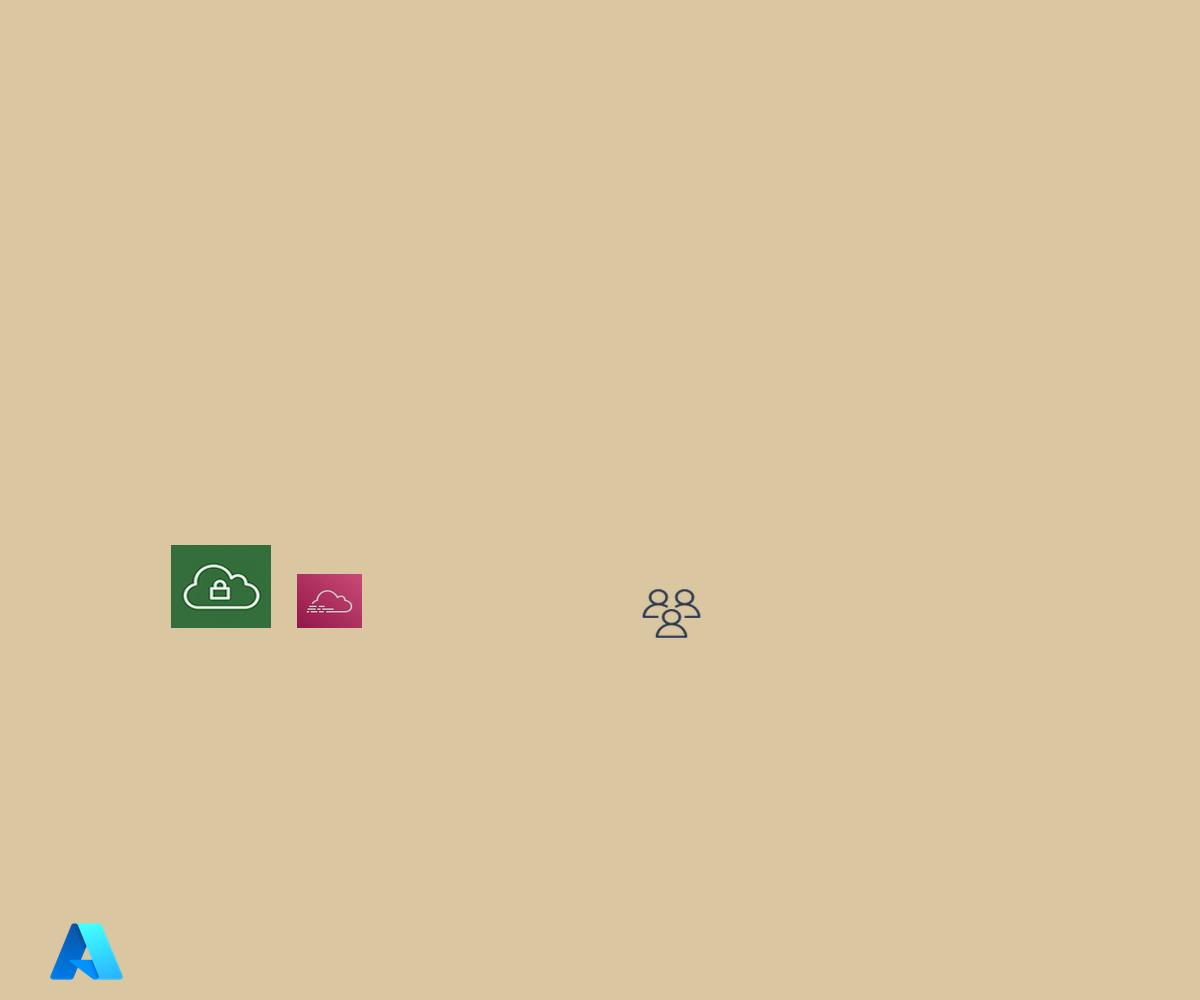AWS-CloudTrail: (297, 574, 362, 628)
AWS-Private_vpc: (171, 545, 271, 628)
AWS-Res_Users: (640, 587, 703, 640)
Azure_services: (47, 919, 126, 984)
